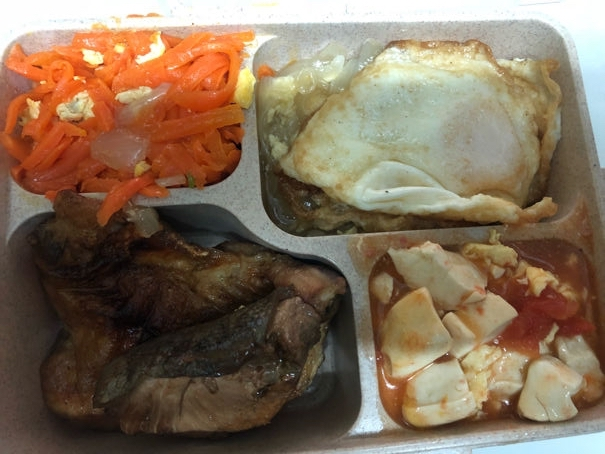carrot_eggs: (12, 35, 240, 190)
fried_eggs: (282, 40, 562, 227)
